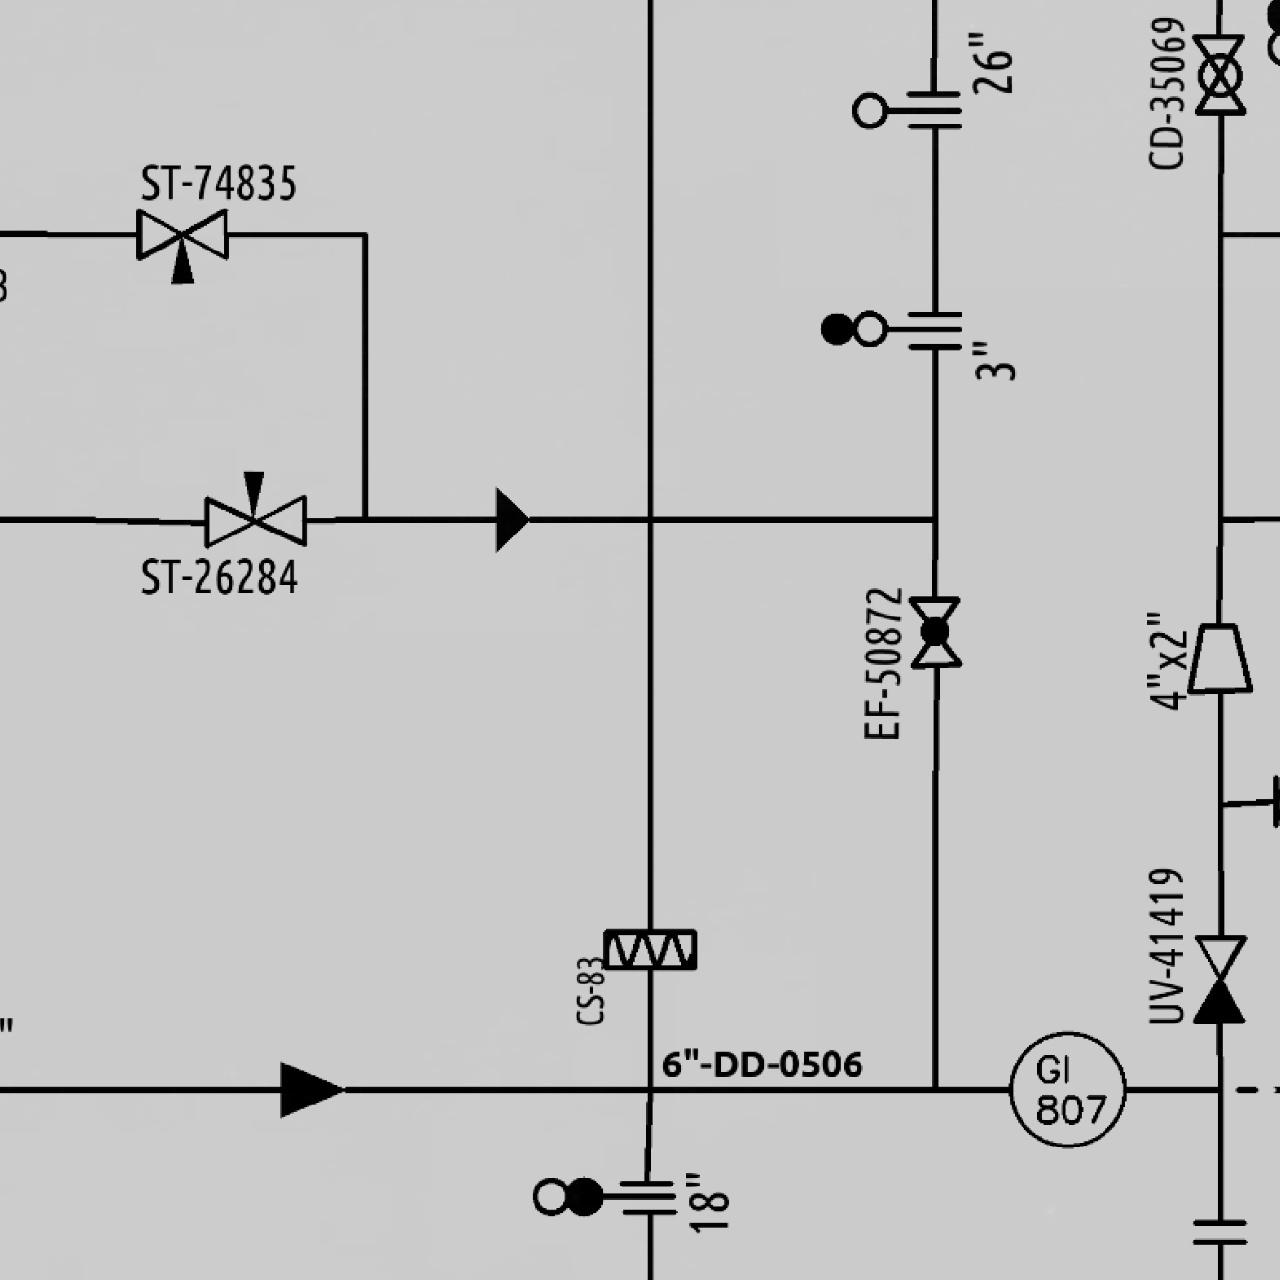Half closed valve: (1188, 930, 1250, 1027)
